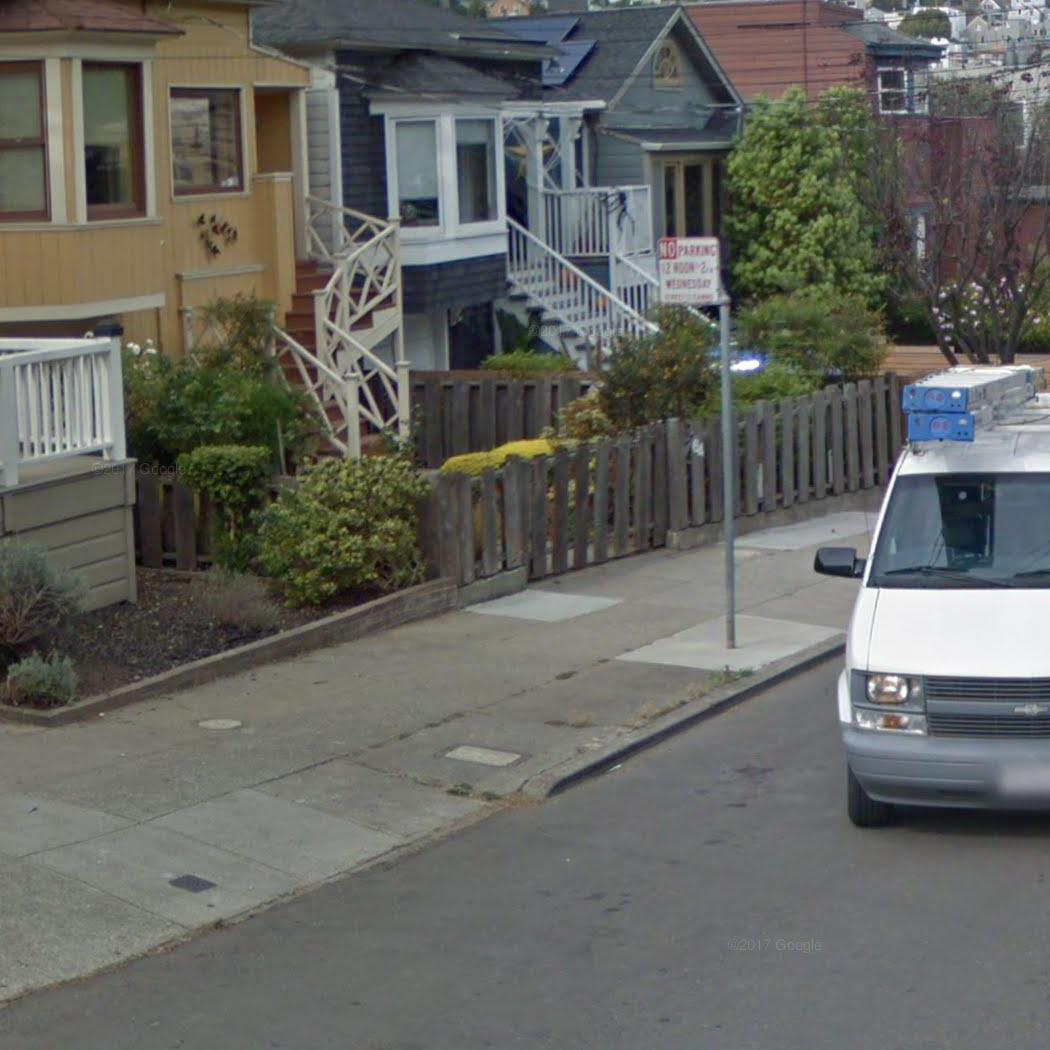No Parking: (651, 231, 726, 311)
